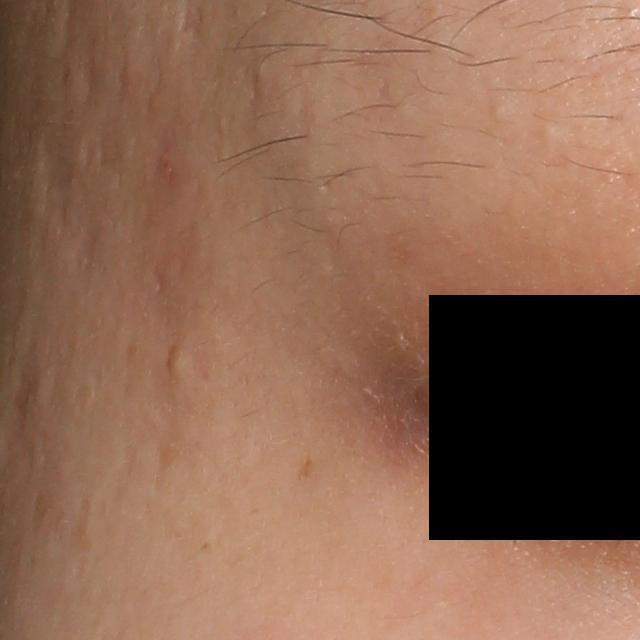comedo: (164, 348, 191, 382), (534, 118, 560, 144), (487, 101, 511, 125)
melasma: (299, 454, 318, 477)
